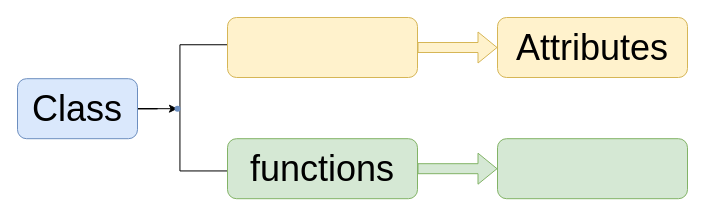
Image size: 705x217. Some labels were removed from this diagram. Each missing label, with the centre of its shape:
"Methods" goes at [592,168].
"variables" goes at [322,47].
